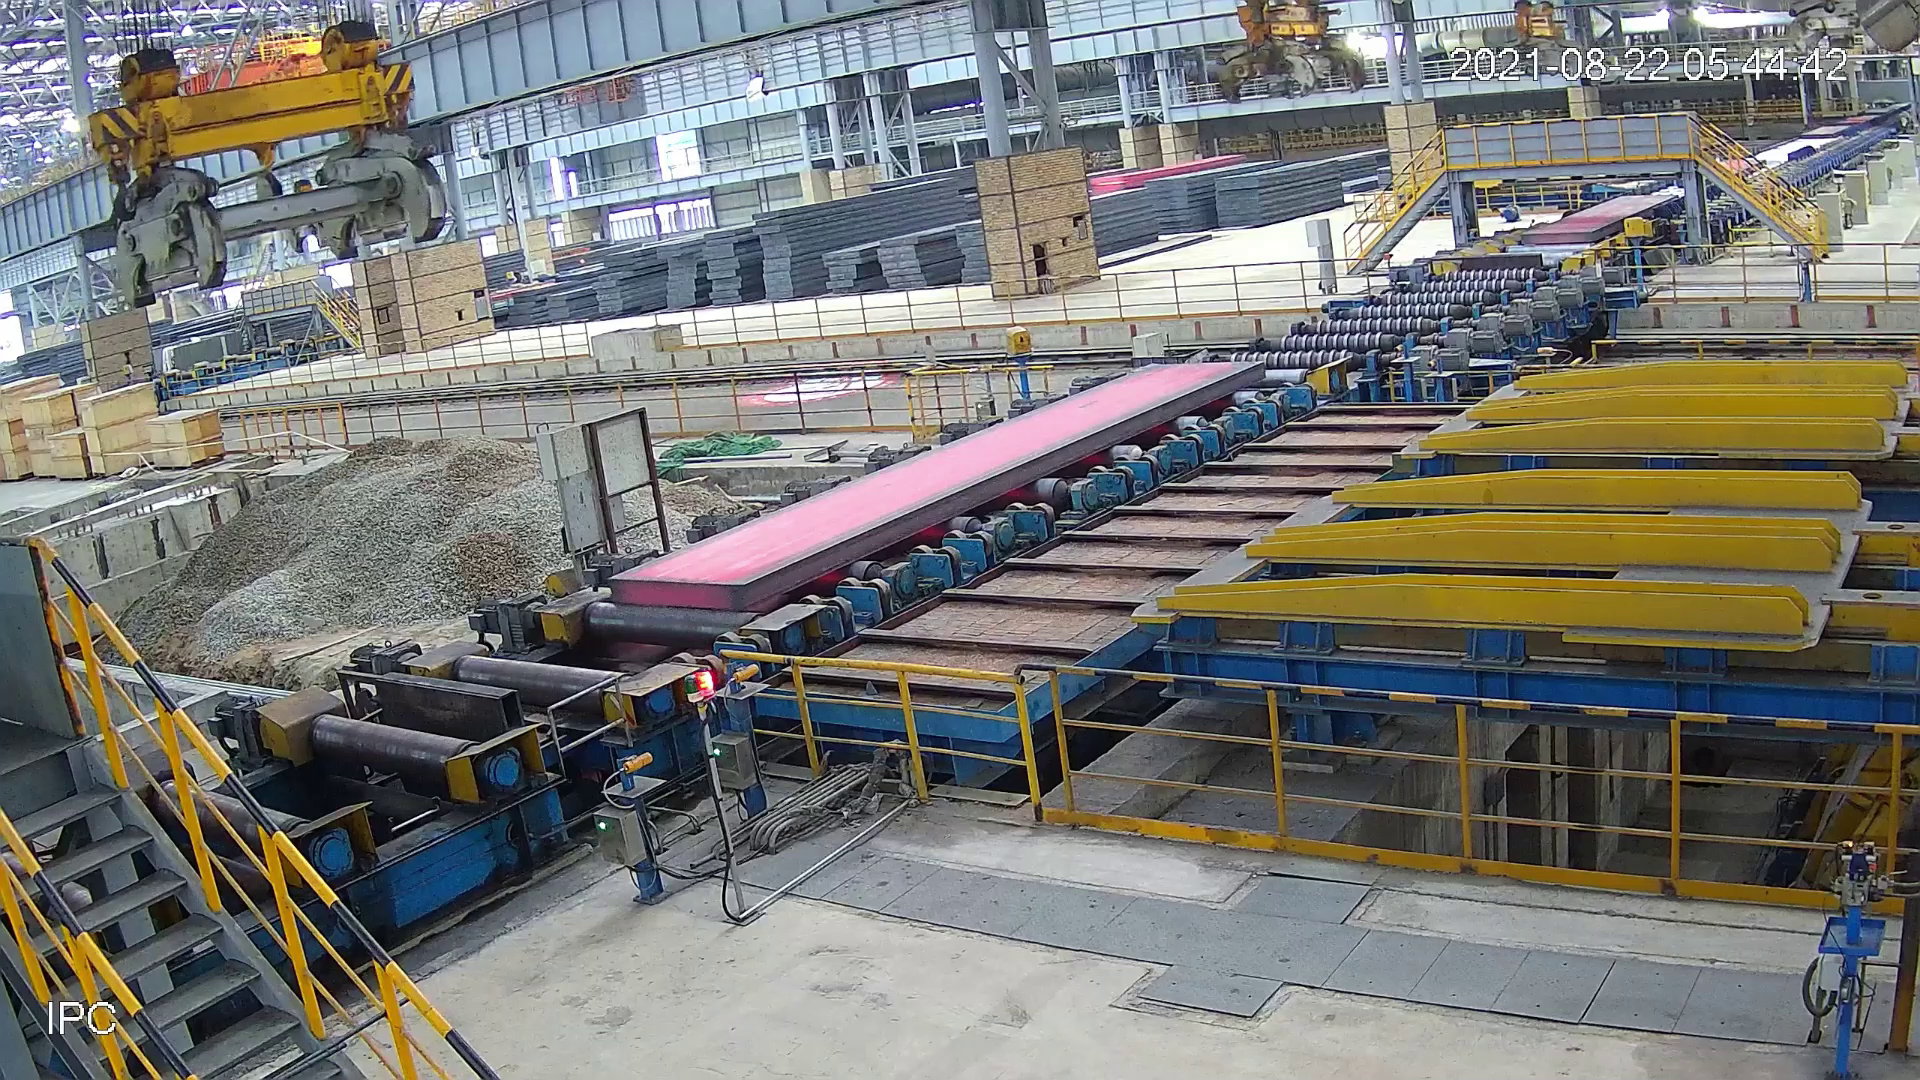crane: (76, 22, 452, 309), (1209, 1, 1378, 105), (1505, 1, 1584, 87)
slab: (574, 345, 1270, 616), (1509, 187, 1672, 248)
